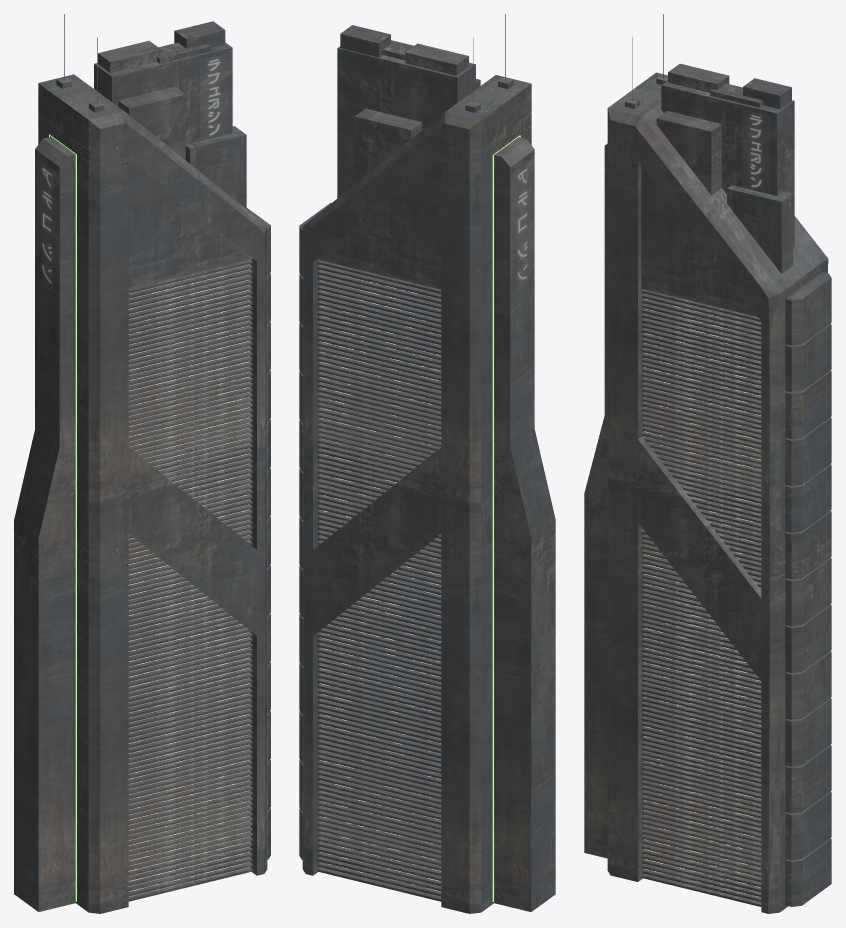
The model's file is sci-fi-brutalist-tower-with-ads.glb.
3 renders of one model, left to right at view 1: azimuth 30°, elevation 25°; view 2: azimuth 150°, elevation 25°; view 3: azimuth 330°, elevation 25°, orthographic. The views are drawn at different scales.
Parts seen in each view (by area): view 1: sci-fi-brutalist-tower-with-ads; view 2: sci-fi-brutalist-tower-with-ads; view 3: sci-fi-brutalist-tower-with-ads.
Part boxes in pixels (left/top/right/bottom): sci-fi-brutalist-tower-with-ads: left=14, top=14, right=270, bottom=913; sci-fi-brutalist-tower-with-ads: left=299, top=14, right=555, bottom=913; sci-fi-brutalist-tower-with-ads: left=584, top=14, right=831, bottom=913.
Size of the model in its own units: 201 by 724 by 89.65.
8 materials, 4 textured.
